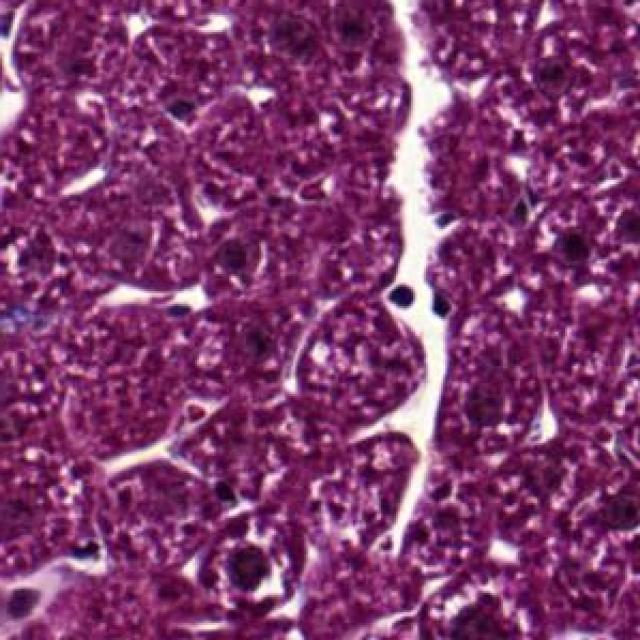inflammation: (532, 49, 582, 102), (453, 597, 508, 640), (332, 1, 374, 49), (228, 547, 270, 592), (506, 187, 545, 229), (601, 497, 640, 531), (66, 541, 104, 571), (6, 589, 40, 620), (244, 329, 272, 366), (217, 241, 246, 275), (165, 100, 196, 125), (562, 238, 590, 265), (618, 213, 640, 245), (389, 286, 415, 309), (430, 480, 456, 502), (432, 292, 451, 319), (215, 482, 236, 504), (169, 306, 191, 320)
